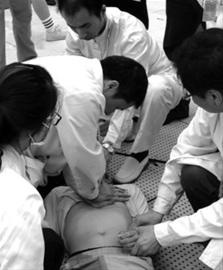falling: (39, 161, 159, 270)
